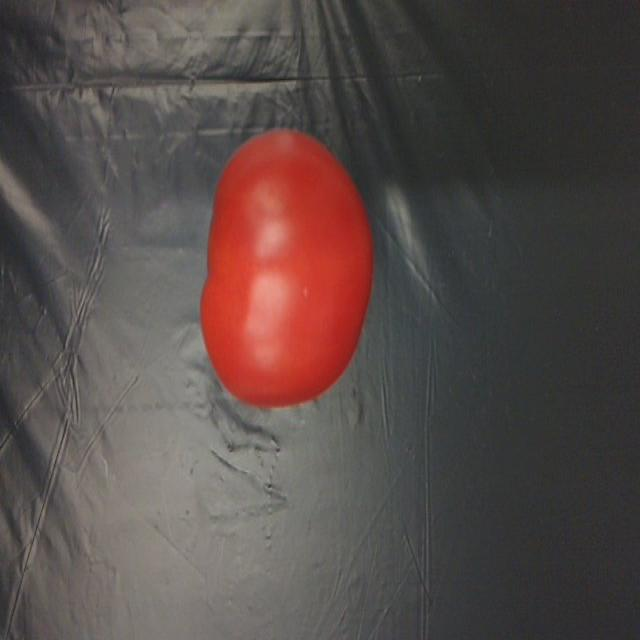kirmizi: (200, 116, 371, 412)
